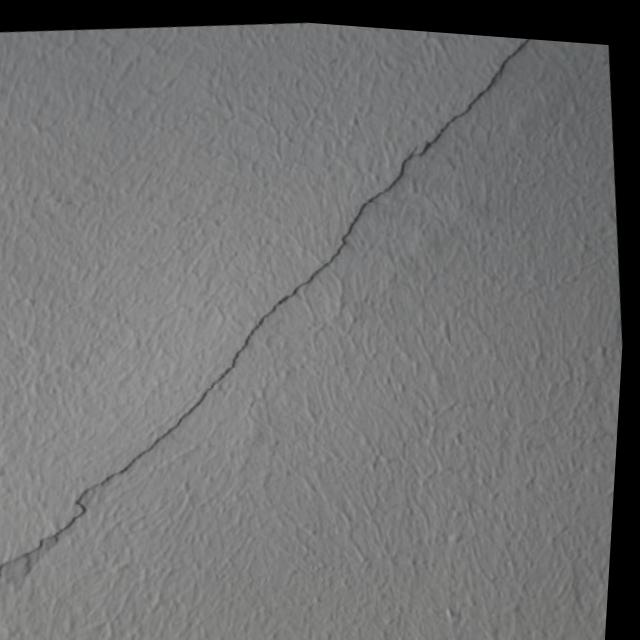Crack: (0, 0, 613, 639)
